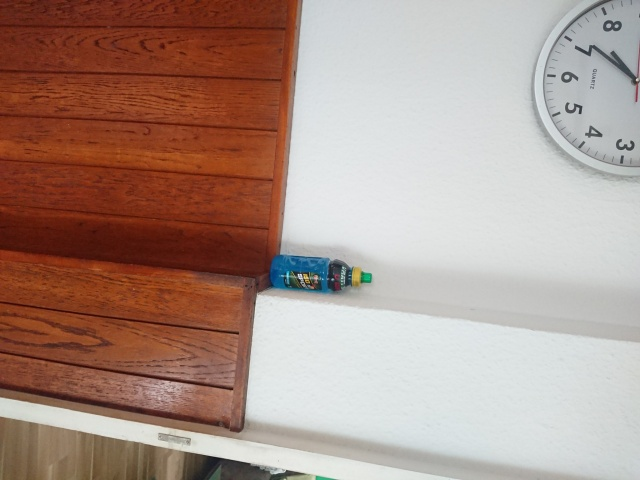Vindi Iso Sport Forest Strawberries 500mL: (268, 252, 374, 293)
